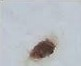Corrosion: (29, 37, 56, 61)
